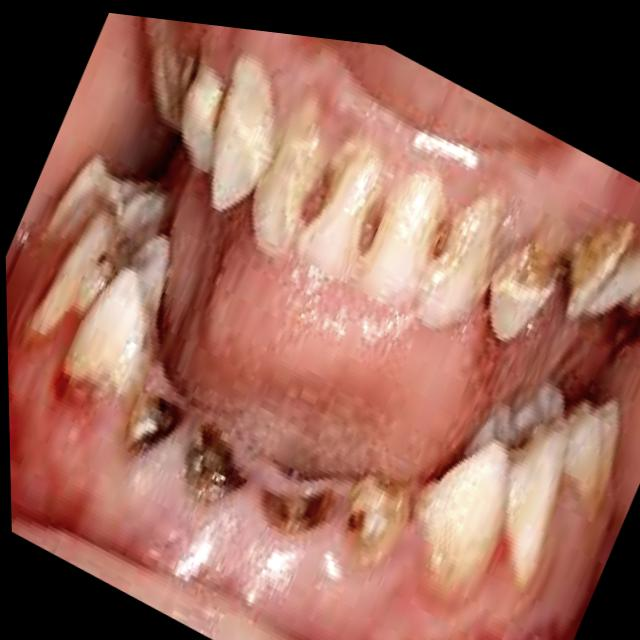cariess: (127, 401, 245, 507), (348, 480, 409, 565), (264, 495, 334, 535)
